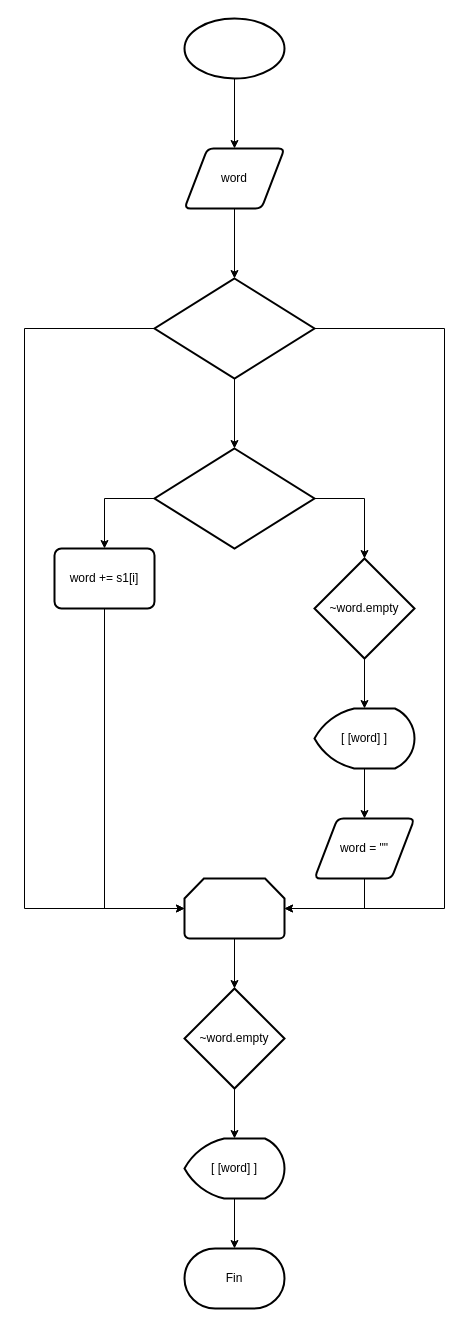
Some shapes in this 470 by 1326 pixel diagram are drawn without their labels. Here are the shapes that lost their labels. From the top down, the box of each, then its label:
(183, 17, 285, 79): Inicio
(153, 277, 315, 379): i=0; ++i
(153, 447, 315, 549): s1[i]=' '
(183, 877, 285, 939): s1.length
